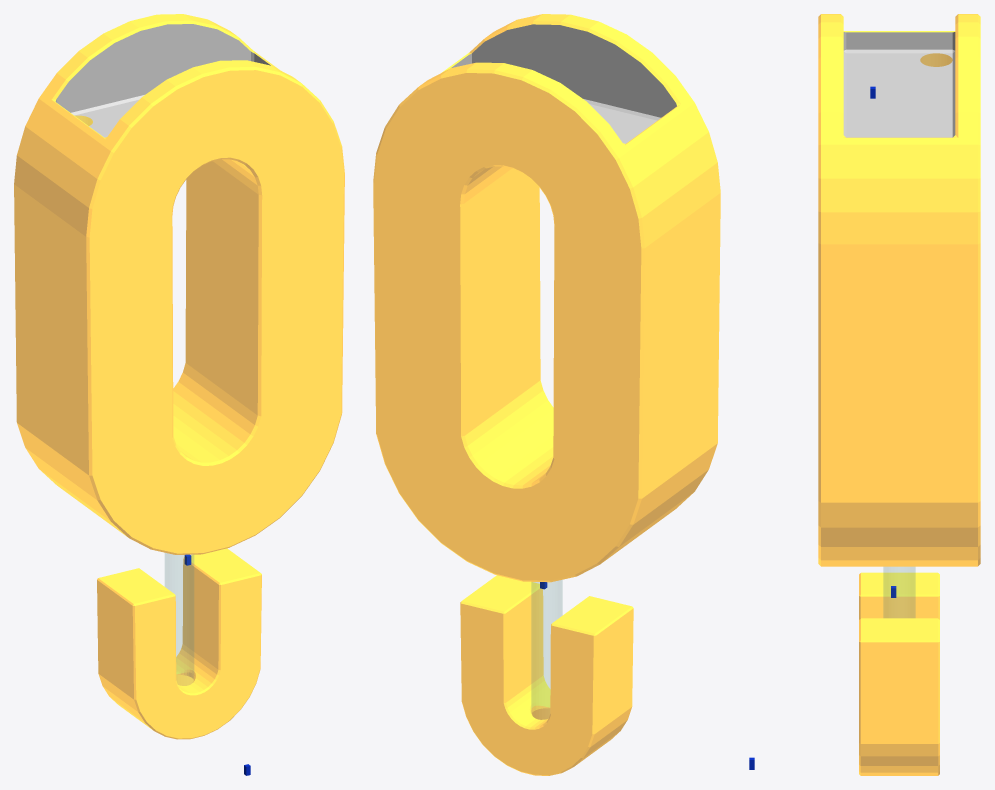
Rendered from obita_base_Vb_0.3.glb.
3 views of the same model, side by side, from view 1: azimuth 30°, elevation 25°; view 2: azimuth 150°, elevation 25°; view 3: azimuth 270°, elevation 25° (orthographic). The views are drawn at different scales.
Visible parts, largest first — view 1: O, u, O.001, Cylinder; view 2: O, u, O.001, Cylinder; view 3: O, u, O.001, Cylinder.
Part boxes in pixels (<box>): O: <box>14,14,344,554</box>; u: <box>97,548,261,739</box>; O.001: <box>55,24,270,137</box>; Cylinder: <box>165,553,193,678</box>; O: <box>373,14,720,582</box>; u: <box>460,575,633,775</box>; O.001: <box>451,24,676,143</box>; Cylinder: <box>531,580,562,712</box>; O: <box>818,14,980,566</box>; u: <box>859,572,939,775</box>; O.001: <box>843,32,955,137</box>; Cylinder: <box>883,567,915,617</box>.
Size of the model in its own units: 60 by 151 by 42.76.
